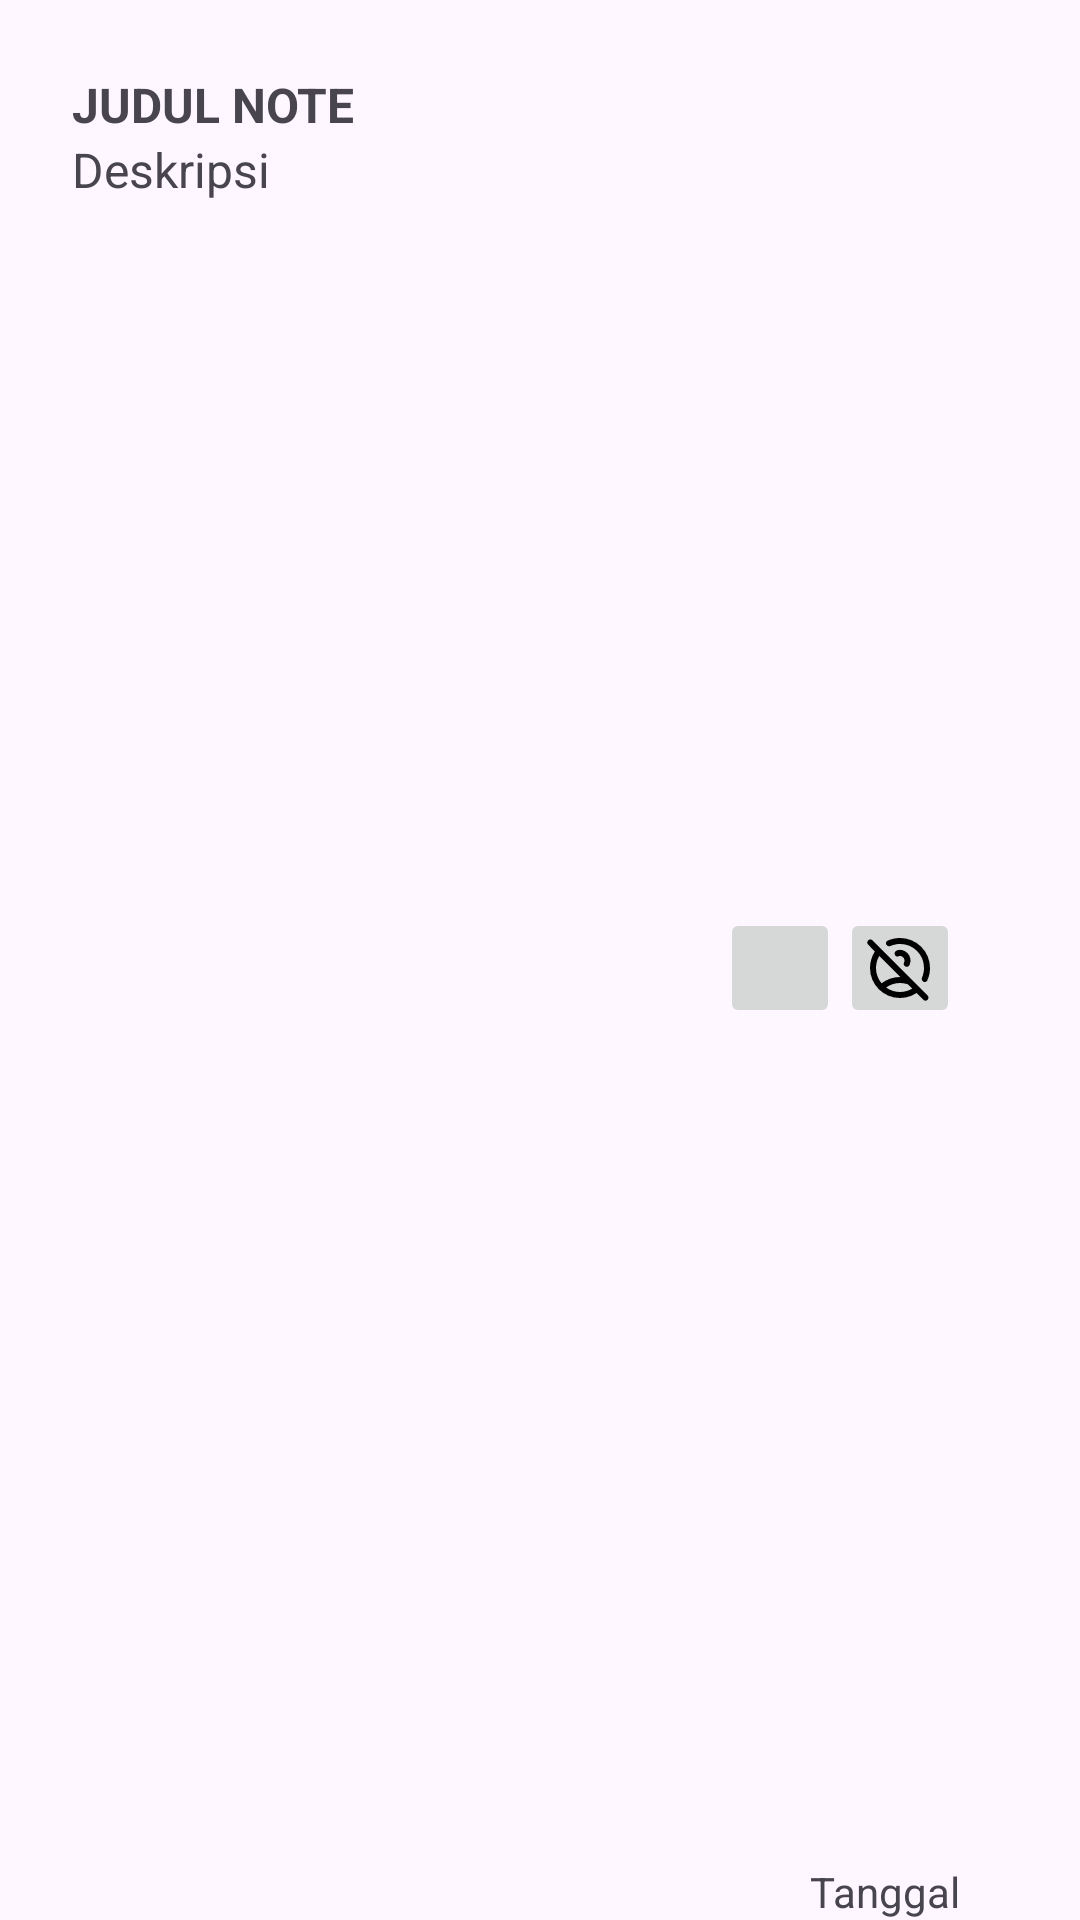

Where icons sit on this 1080px x 1920px app screen, as bbox=(x1, y1, x2, y2):
account circle off: bbox=(852, 926, 948, 1010)
